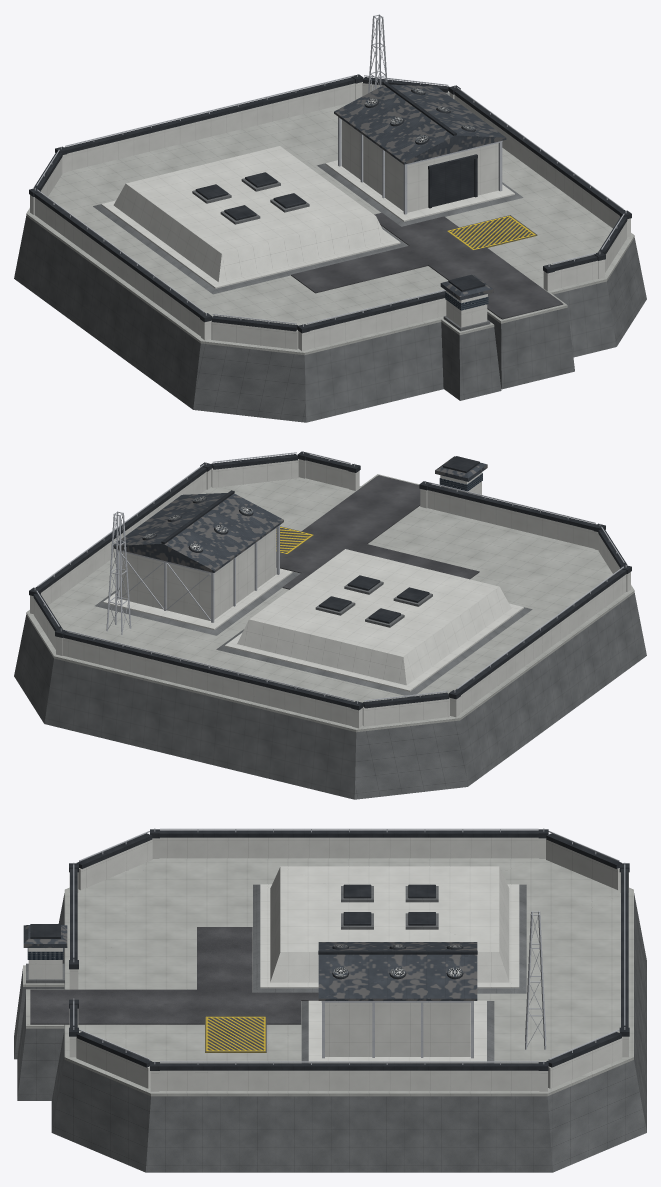
File: abm_silo.glb
The picture shows the model from 3 angles, top to bottom: view 1: azimuth 30°, elevation 25°; view 2: azimuth 150°, elevation 25°; view 3: azimuth 270°, elevation 25°; orthographic projection. The views are drawn at different scales.
Visible parts, largest first — view 1: SLO_L1_ConcLight, SLO_L1_ConcDark, SLO_L1_ConcMid, SLO_L1_SteelDark, SLO_L1_Asphalt, SLO_L1_RoofCorr, SLO_L1_SteelTruss, SLO_L1_HatchZone, SLO_L1_DoorCorr; view 2: SLO_L1_ConcLight, SLO_L1_ConcDark, SLO_L1_ConcMid, SLO_L1_SteelDark, SLO_L1_RoofCorr, SLO_L1_Asphalt, SLO_L1_SteelTruss, SLO_L1_HatchZone; view 3: SLO_L1_ConcLight, SLO_L1_ConcDark, SLO_L1_ConcMid, SLO_L1_SteelDark, SLO_L1_Asphalt, SLO_L1_RoofCorr, SLO_L1_SteelTruss, SLO_L1_HatchZone, SLO_L1_RoofVent.
Boxes of the visible parts, left/top/right/bottom form: SLO_L1_ConcLight: left=30, top=82, right=630, bottom=351; SLO_L1_ConcDark: left=14, top=163, right=646, bottom=422; SLO_L1_ConcMid: left=26, top=102, right=634, bottom=355; SLO_L1_SteelDark: left=29, top=74, right=631, bottom=333; SLO_L1_Asphalt: left=291, top=212, right=563, bottom=319; SLO_L1_RoofCorr: left=334, top=84, right=506, bottom=300; SLO_L1_SteelTruss: left=34, top=14, right=626, bottom=326; SLO_L1_HatchZone: left=446, top=215, right=537, bottom=250; SLO_L1_DoorCorr: left=432, top=159, right=474, bottom=206; SLO_L1_ConcLight: left=30, top=459, right=630, bottom=728; SLO_L1_ConcDark: left=14, top=572, right=646, bottom=799; SLO_L1_ConcMid: left=26, top=474, right=634, bottom=732; SLO_L1_SteelDark: left=29, top=451, right=631, bottom=710; SLO_L1_RoofCorr: left=113, top=456, right=487, bottom=572; SLO_L1_Asphalt: left=276, top=475, right=479, bottom=589; SLO_L1_SteelTruss: left=34, top=451, right=626, bottom=703; SLO_L1_HatchZone: left=276, top=526, right=314, bottom=554; SLO_L1_ConcLight: left=28, top=837, right=628, bottom=1091; SLO_L1_ConcDark: left=14, top=884, right=646, bottom=1172; SLO_L1_ConcMid: left=23, top=858, right=633, bottom=1096; SLO_L1_SteelDark: left=30, top=829, right=629, bottom=1070; SLO_L1_Asphalt: left=30, top=927, right=318, bottom=1024; SLO_L1_RoofCorr: left=23, top=925, right=477, bottom=1000; SLO_L1_SteelTruss: left=73, top=828, right=625, bottom=1064; SLO_L1_HatchZone: left=205, top=1016, right=266, bottom=1052; SLO_L1_RoofVent: left=333, top=944, right=462, bottom=977.
Bounding box in the file's own units: 73.5 × 28.01 × 78.15.
Materials: 11 (11 with a texture image).
